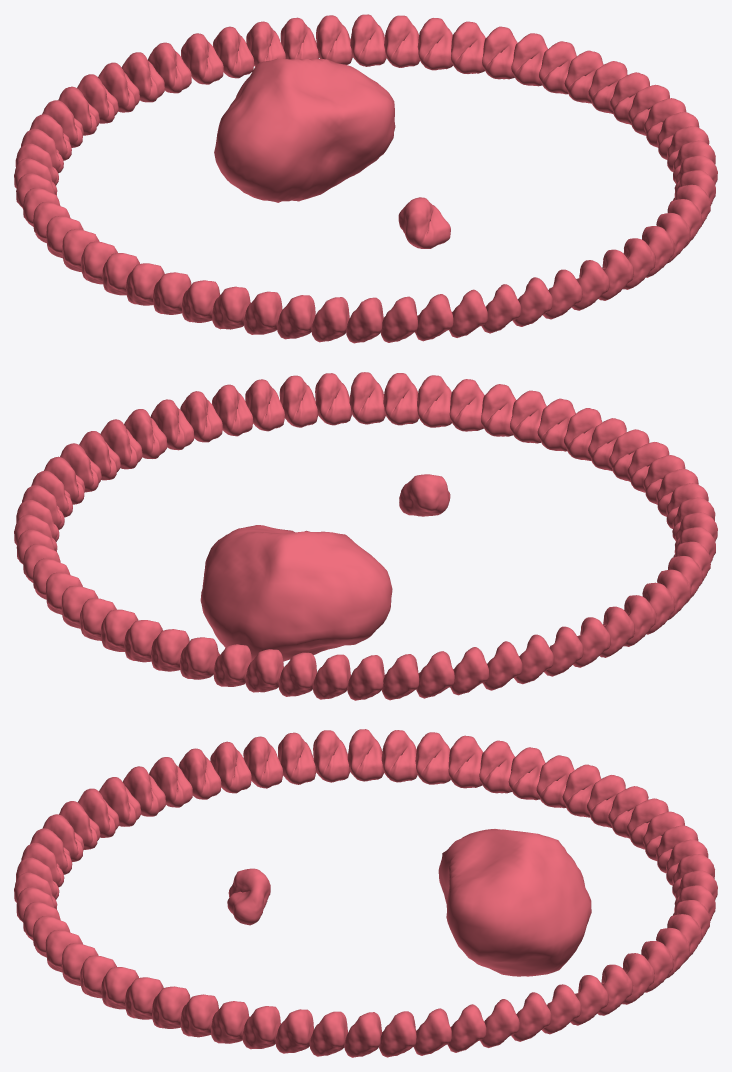
The model's file is Coral.fbx.
3 views of the same model, one above another, from view 1: azimuth 30°, elevation 25°; view 2: azimuth 150°, elevation 25°; view 3: azimuth 270°, elevation 25° (orthographic).
Visible parts, largest first — view 1: Coral.002, Coral, Coral.001; view 2: Coral.002, Coral, Coral.001; view 3: Coral.002, Coral, Coral.001.
Boxes of the visible parts, x1,y1,x2,y2 form: Coral.002: [14, 14, 717, 343]; Coral: [214, 58, 395, 202]; Coral.001: [398, 197, 450, 248]; Coral.002: [14, 372, 717, 700]; Coral: [200, 525, 392, 661]; Coral.001: [399, 474, 450, 516]; Coral.002: [14, 729, 717, 1057]; Coral: [438, 829, 591, 976]; Coral.001: [227, 868, 270, 925].
Bounding box in the file's own units: 314 × 65.05 × 314.
